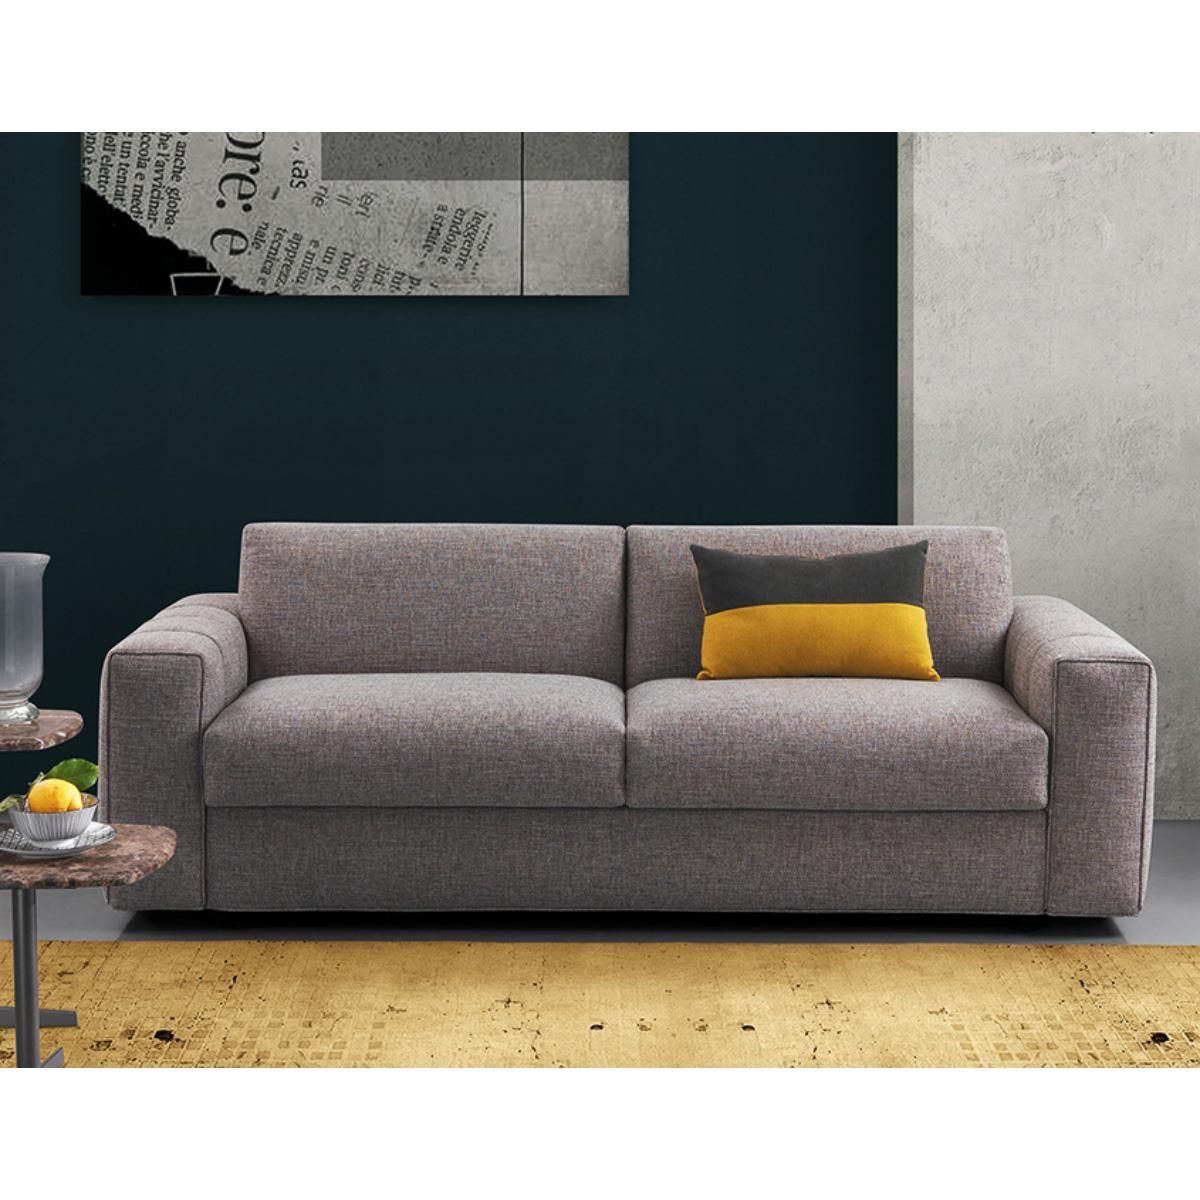Sofa: (95, 516, 1158, 922)
